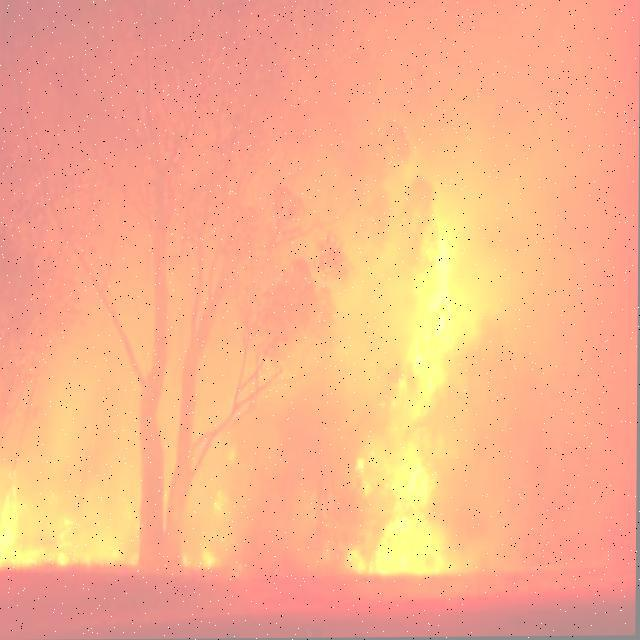Fire: (366, 215, 462, 574), (203, 454, 243, 566)
